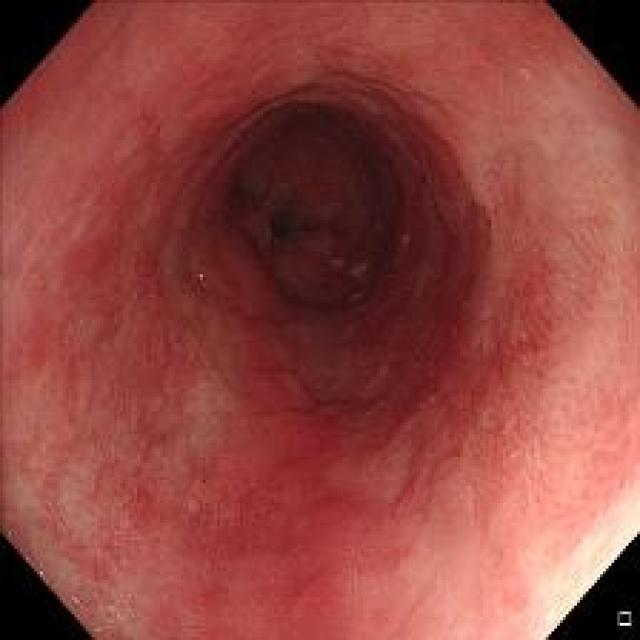contrast: (221, 99, 408, 318)
saturation: (538, 505, 632, 629)
specularity: (106, 602, 125, 625), (515, 65, 530, 80)
